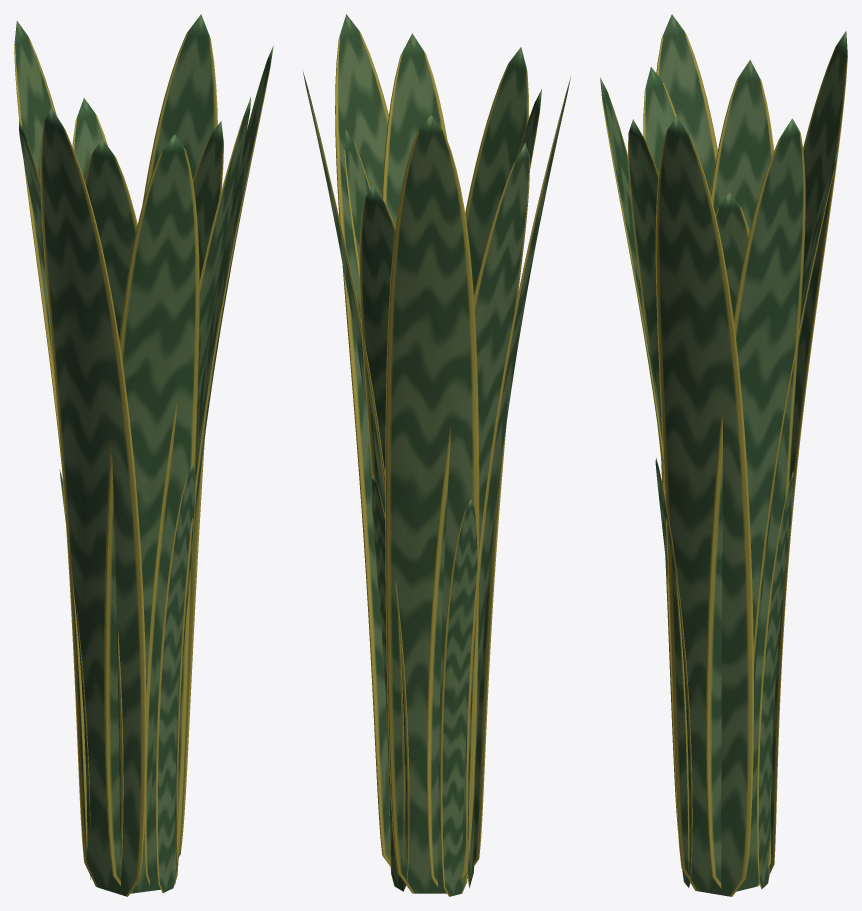
Rendered from n-hardleaf.glb.
The picture shows the model from 3 angles, left to right: view 1: azimuth 30°, elevation 25°; view 2: azimuth 150°, elevation 25°; view 3: azimuth 270°, elevation 25°; orthographic projection.
Parts seen in each view (by area): view 1: Foliage; view 2: Foliage; view 3: Foliage.
Part boxes in pixels (x1,y1,x2,y2): Foliage: (14,14,273,896); Foliage: (302,14,571,896); Foliage: (600,14,847,896).
Bounding box in the file's own units: 0.2623 × 0.92 × 0.2518.
Materials: 1 (1 with a texture image).
